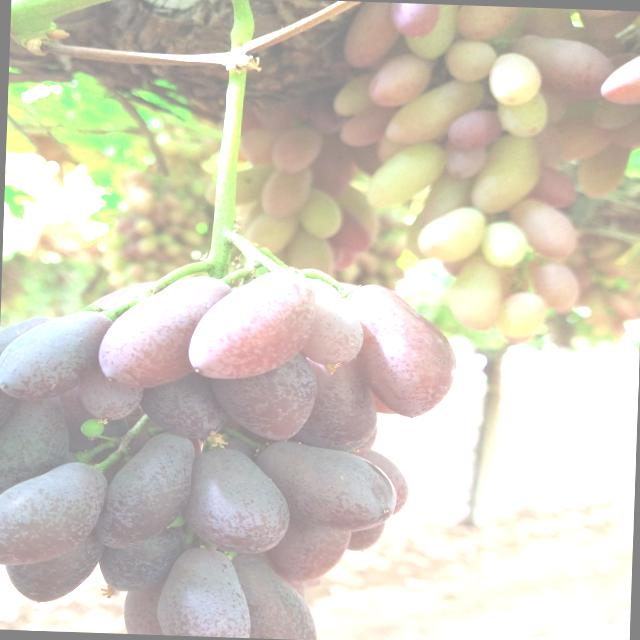grapes: (335, 282, 459, 418), (97, 272, 233, 390), (188, 268, 316, 381), (252, 441, 398, 534), (92, 431, 195, 552), (0, 458, 107, 567), (182, 447, 292, 553), (0, 308, 113, 403), (210, 347, 320, 442), (286, 354, 379, 454), (158, 548, 253, 638), (0, 391, 71, 508), (226, 551, 318, 640), (4, 525, 106, 605), (512, 34, 618, 102), (384, 77, 484, 148), (137, 368, 230, 439), (264, 510, 352, 582), (54, 382, 132, 461), (98, 522, 184, 592), (471, 132, 542, 216), (365, 140, 447, 210), (446, 253, 504, 333), (346, 446, 410, 516), (508, 198, 577, 262), (536, 116, 616, 171), (300, 299, 364, 367), (367, 48, 439, 108), (340, 0, 400, 70), (0, 314, 56, 386), (417, 205, 486, 263), (308, 131, 357, 202), (576, 138, 630, 200), (402, 2, 458, 60), (123, 578, 178, 636), (205, 162, 273, 208), (76, 374, 143, 420), (302, 77, 354, 136), (526, 254, 580, 310), (270, 120, 324, 176), (260, 162, 312, 220), (90, 276, 184, 308), (338, 100, 400, 148), (488, 52, 542, 106), (240, 208, 300, 256), (318, 203, 371, 256), (332, 183, 379, 242), (493, 291, 548, 340), (496, 90, 548, 140), (286, 223, 334, 277), (454, 5, 524, 42), (599, 44, 640, 106), (252, 88, 308, 132), (446, 109, 502, 152), (442, 40, 496, 84), (298, 186, 342, 240), (478, 220, 527, 268), (332, 72, 379, 118), (528, 167, 576, 210), (577, 9, 640, 40), (389, 2, 438, 38), (0, 358, 17, 451), (202, 432, 258, 460), (591, 99, 640, 131), (445, 142, 486, 180), (235, 128, 278, 164), (348, 142, 392, 177), (524, 7, 572, 39), (267, 562, 305, 598), (346, 520, 386, 552), (302, 276, 342, 304), (323, 235, 355, 269), (606, 292, 640, 320), (439, 250, 474, 276), (540, 96, 566, 126), (353, 250, 384, 274), (101, 249, 131, 272), (105, 270, 138, 290), (614, 124, 640, 149), (369, 389, 396, 413), (576, 8, 640, 18), (591, 258, 621, 278), (606, 52, 639, 70), (357, 422, 378, 449), (150, 202, 171, 228), (338, 262, 361, 284), (500, 330, 536, 344), (179, 228, 204, 248), (134, 234, 159, 254), (135, 192, 155, 216), (574, 268, 592, 292), (186, 178, 206, 198), (566, 252, 588, 270), (162, 192, 182, 210), (115, 215, 134, 233), (134, 220, 154, 237), (156, 232, 176, 248), (158, 262, 184, 274), (168, 210, 186, 226), (128, 262, 144, 280), (128, 245, 148, 259), (147, 250, 170, 262), (300, 576, 320, 587), (164, 226, 184, 237), (143, 259, 158, 270), (127, 230, 141, 240)
